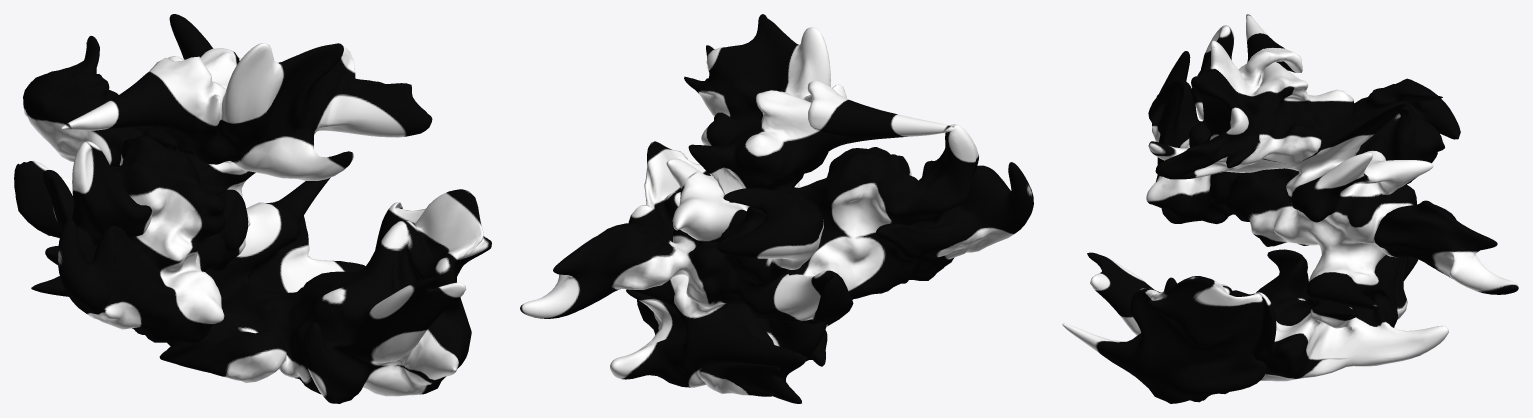
File: buisson3_Uv.fbx
The picture shows the model from 3 angles, left to right: view 1: azimuth 30°, elevation 25°; view 2: azimuth 150°, elevation 25°; view 3: azimuth 270°, elevation 25°; orthographic projection. The views are drawn at different scales.
Visible parts, largest first — view 1: PM3D_Sphere3D_2; view 2: PM3D_Sphere3D_2; view 3: PM3D_Sphere3D_2.
Part boxes in pixels (<box>): PM3D_Sphere3D_2: <box>14,14,491,403</box>; PM3D_Sphere3D_2: <box>520,14,1033,403</box>; PM3D_Sphere3D_2: <box>1062,14,1518,403</box>.
Size of the model in its own units: 84.38 by 69.77 by 94.26.
